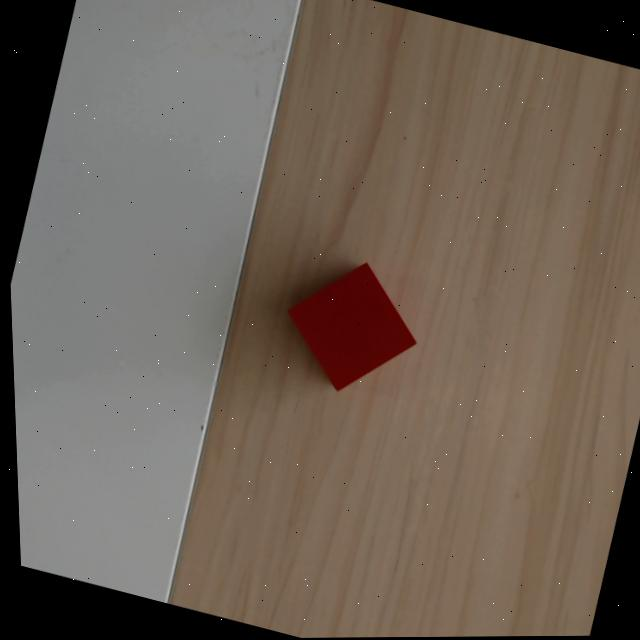Kubus-Merah-505050: (285, 261, 415, 392)
